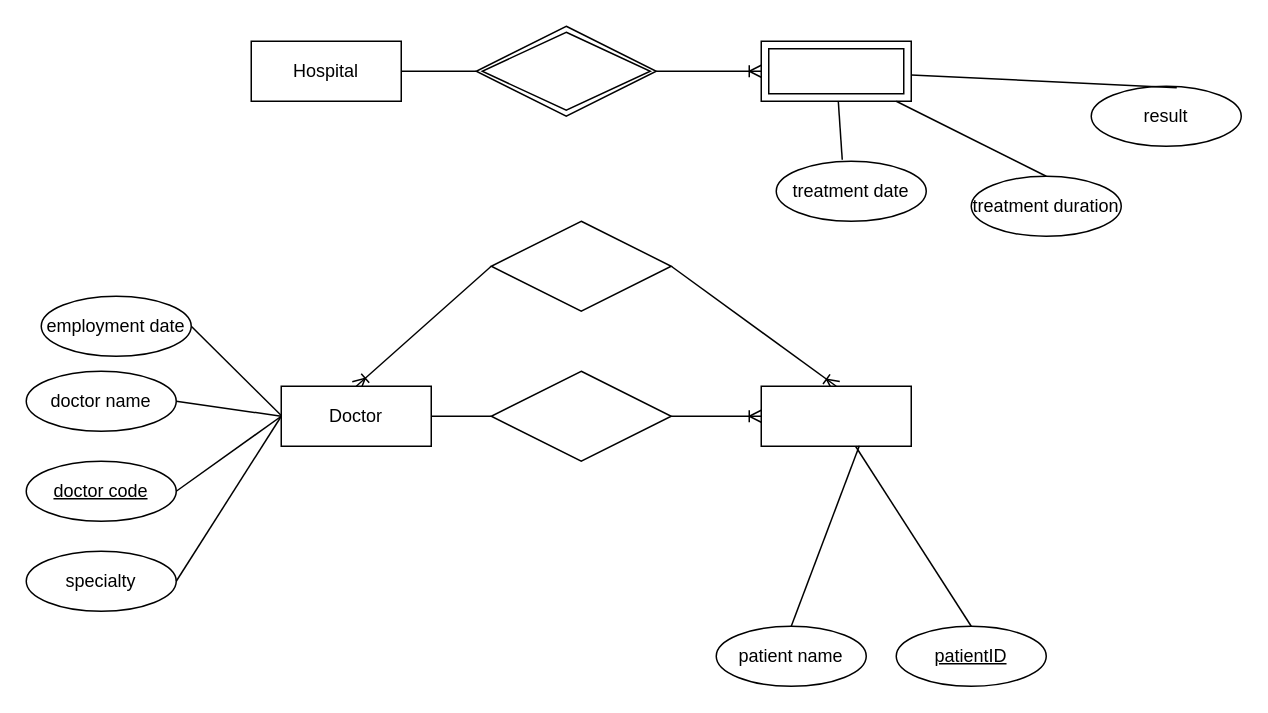
The diagram is 1268 pixels wide and 713 high, and some of its shapes have lost their labels. Here are the shapes that lost their labels. From the top down, the centre of each, then its label:
At point 565,70: "Save".
At point 835,70: "Treatment".
At point 580,265: "Treated by".
At point 580,415: "Admit".
At point 835,415: "Patient".
